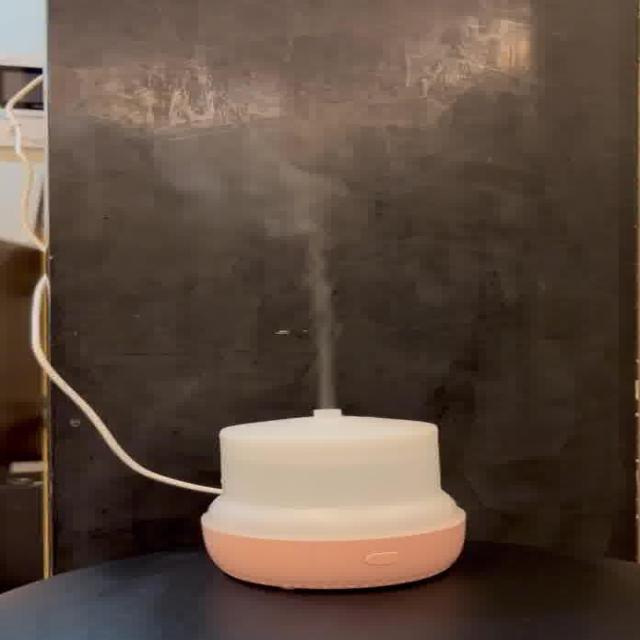fire: (186, 86, 348, 404)
